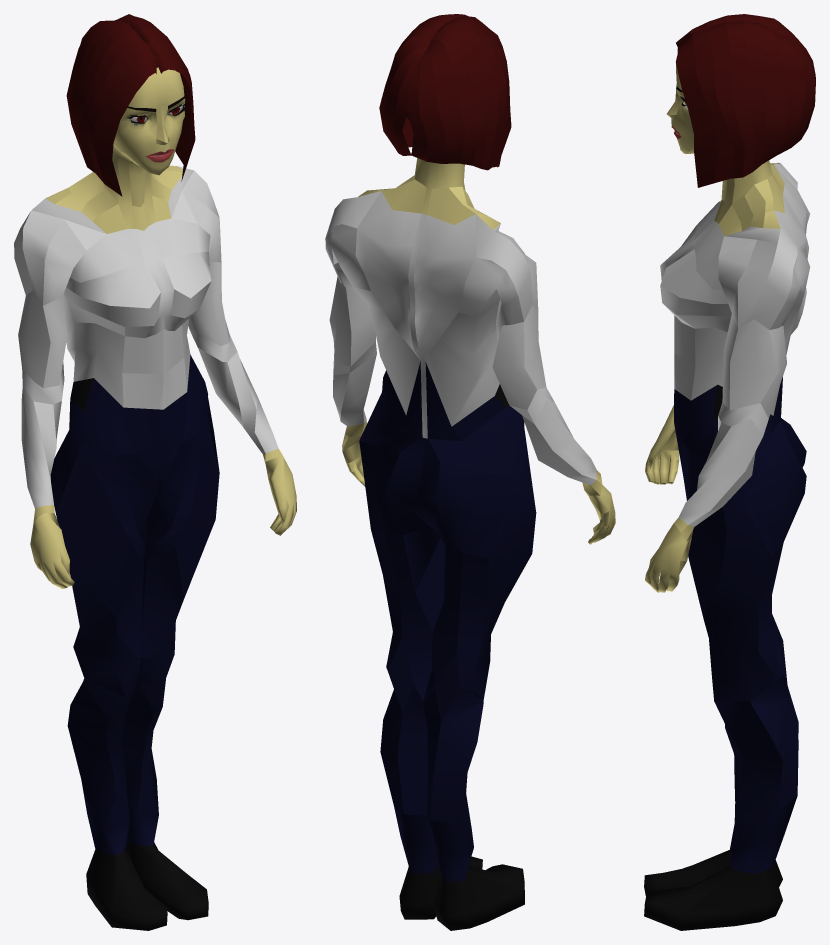
The picture shows the model from 3 angles, left to right: view 1: azimuth 30°, elevation 25°; view 2: azimuth 150°, elevation 25°; view 3: azimuth 270°, elevation 25°; orthographic projection. The views are drawn at different scales.
Parts seen in each view (by area): view 1: Piel.006; view 2: Piel.006; view 3: Piel.006.
Boxes of the visible parts, x1,y1,x2,y2 form: Piel.006: (14, 14, 296, 930); Piel.006: (325, 14, 615, 930); Piel.006: (644, 14, 815, 930).
Size of the model in its own units: 1.02 by 3.27 by 0.5742.
